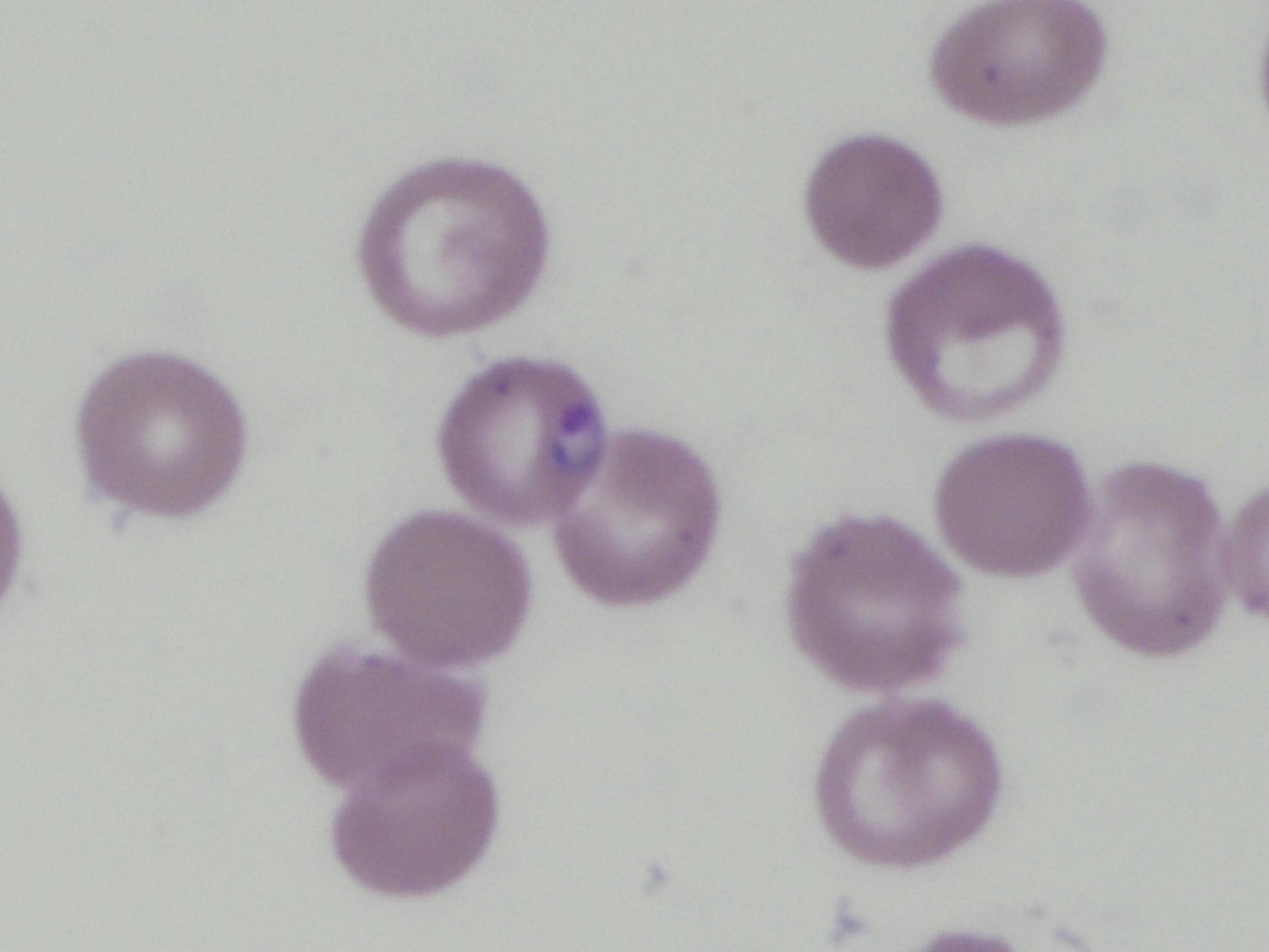Infected: (441, 360, 608, 526)
Uninfected: (359, 157, 549, 332), (1064, 463, 1231, 655), (295, 622, 494, 777), (892, 239, 1059, 419), (787, 516, 961, 685), (555, 430, 718, 610), (815, 705, 997, 862), (77, 357, 242, 519), (333, 743, 493, 898), (366, 507, 530, 655), (934, 435, 1093, 579), (934, 1, 1100, 128), (811, 139, 939, 267)
